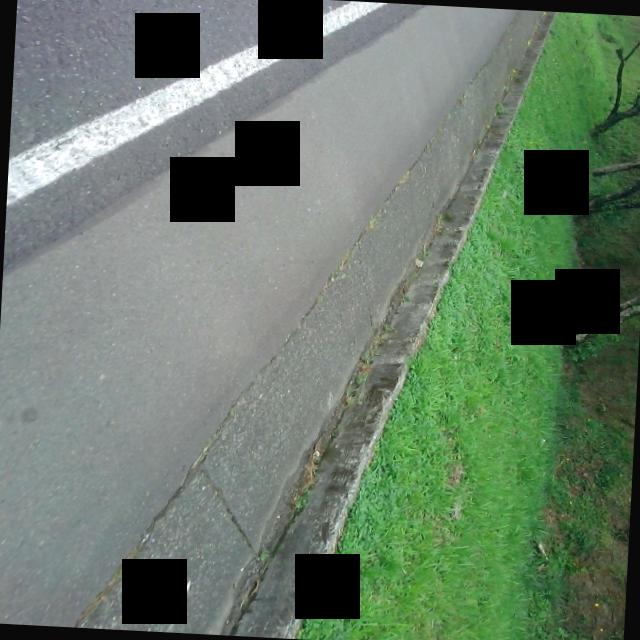DITCH: (0, 0, 558, 640), (0, 0, 555, 640), (0, 0, 534, 640)
